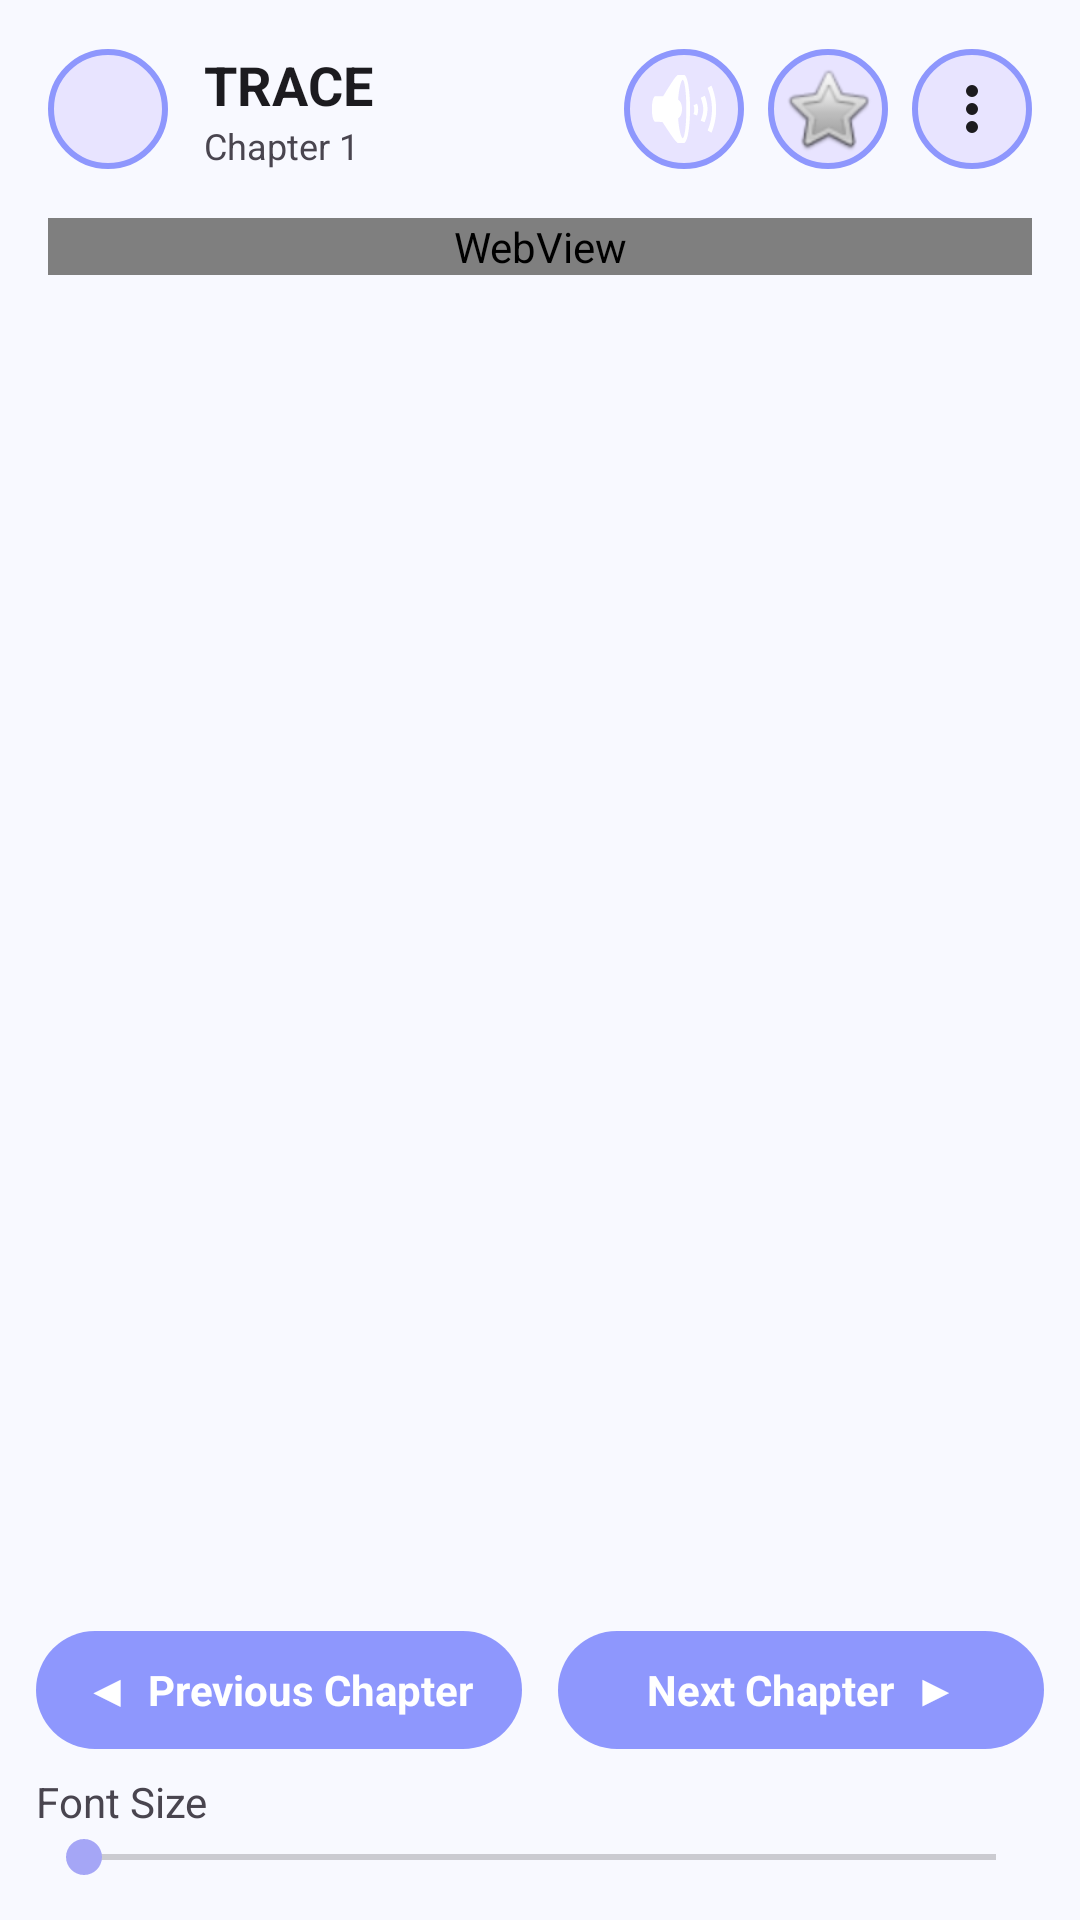

Where to tap for icons on this 1080w x 1920h app screen, as (x=x, y=y):
Bookmark: (x=828, y=109)
more vert: (x=972, y=109)
Text to Speech: (x=684, y=109)
